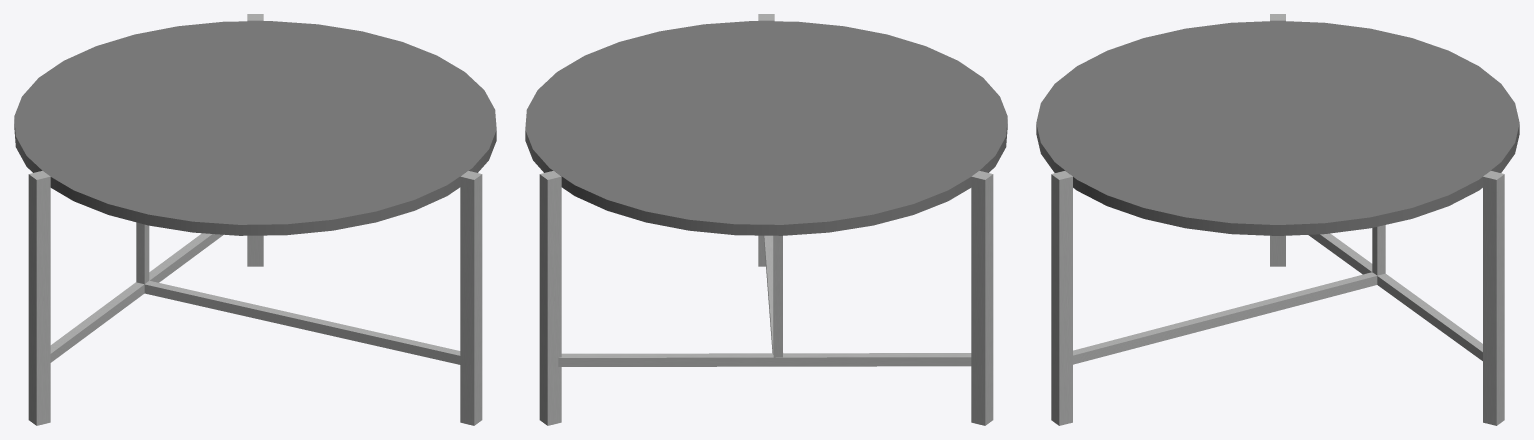
Rendered from propTable.fbx.
The picture shows the model from 3 angles, left to right: view 1: azimuth 30°, elevation 25°; view 2: azimuth 150°, elevation 25°; view 3: azimuth 270°, elevation 25°; orthographic projection.
Parts seen in each view (by area): view 1: propTable; view 2: propTable; view 3: propTable.
Part boxes in pixels (<box>): propTable: <box>14,14,496,425</box>; propTable: <box>525,14,1007,425</box>; propTable: <box>1036,14,1519,425</box>.
Size of the model in its own units: 160 by 87.15 by 155.
2 materials, 1 textured.
